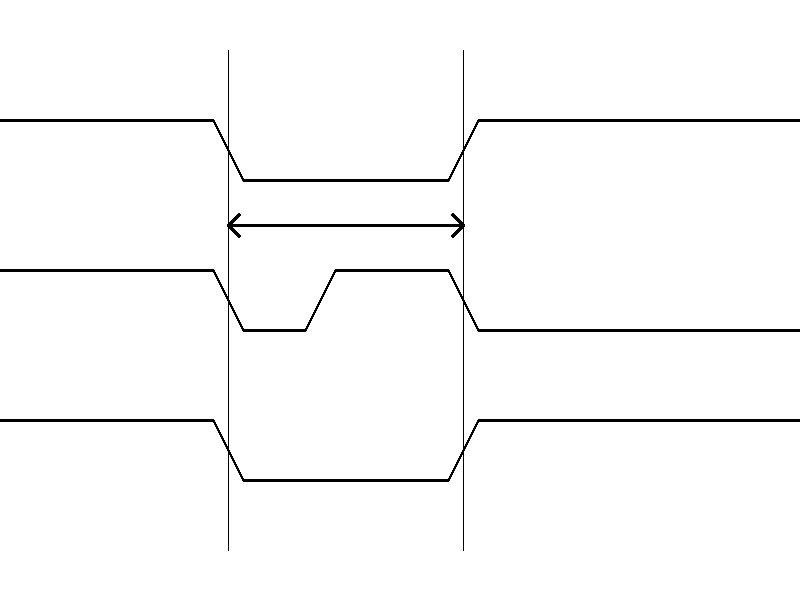double_arrow: (228, 210, 463, 240)
